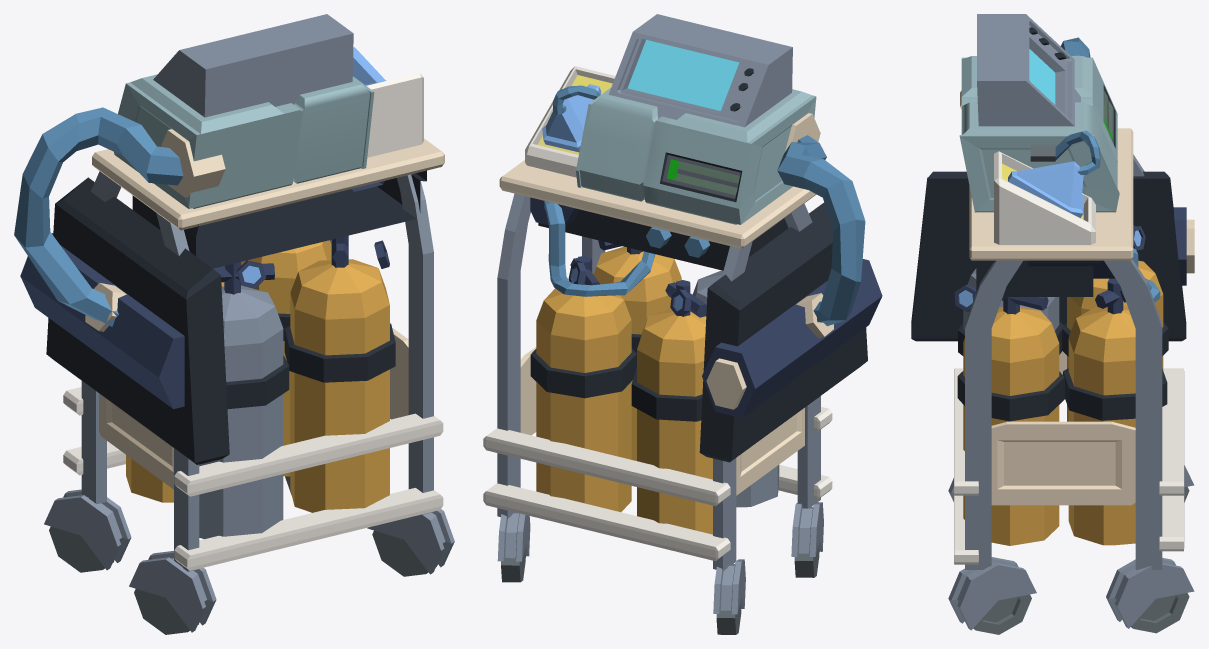
The model's file is g_o_AssistedBreathingApparatus.fbx.
3 renders of one model, left to right at view 1: azimuth 30°, elevation 25°; view 2: azimuth 150°, elevation 25°; view 3: azimuth 270°, elevation 25°, orthographic. The views are drawn at different scales.
Visible parts, largest first — view 1: AssistedBreathingApparatus; view 2: AssistedBreathingApparatus; view 3: AssistedBreathingApparatus.
Boxes of the visible parts, x1=… form: AssistedBreathingApparatus: x1=14, y1=14, x2=454, y2=634; AssistedBreathingApparatus: x1=483, y1=14, x2=882, y2=634; AssistedBreathingApparatus: x1=911, y1=14, x2=1194, y2=634.
Bounding box in the file's own units: 75.01 × 109 × 53.7.
